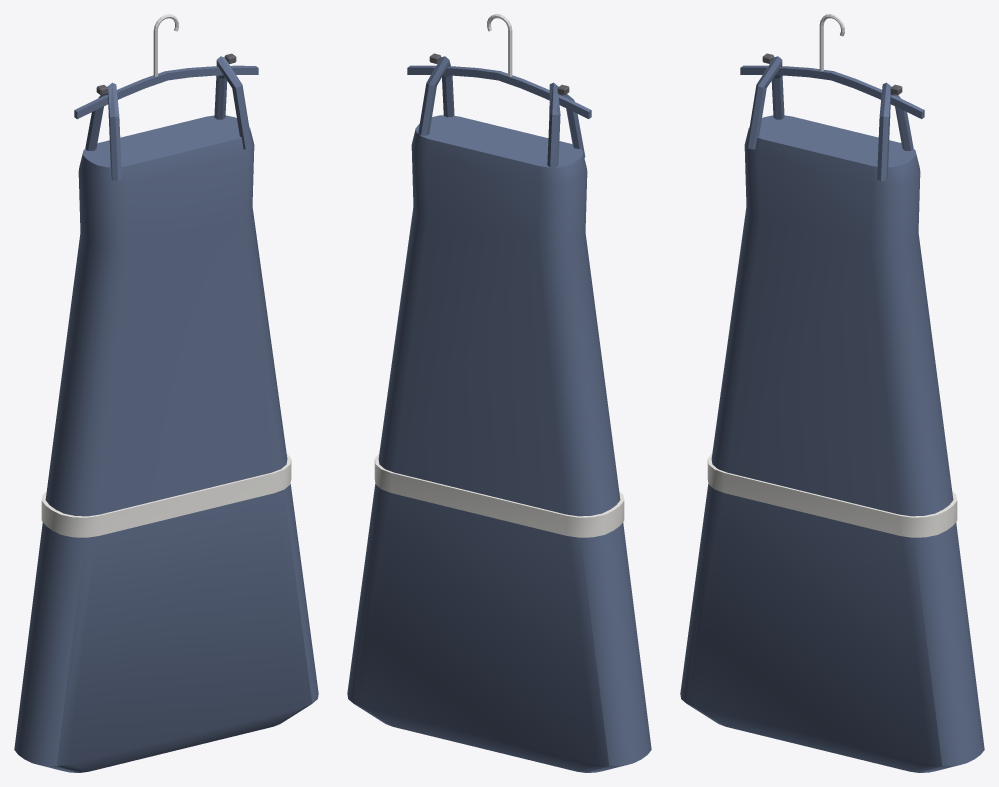
Rendered from clothing-rail-and-wardrobe-dress-on-hanger-long-5d844a11__35456.glb.
3 renders of one model, left to right at view 1: azimuth 30°, elevation 25°; view 2: azimuth 150°, elevation 25°; view 3: azimuth 330°, elevation 25°, orthographic.
Parts seen in each view (by area): view 1: dress-on-hanger-long; view 2: dress-on-hanger-long; view 3: dress-on-hanger-long.
Boxes of the visible parts, x1,y1,x2,y2 form: dress-on-hanger-long: (14,14,318,772); dress-on-hanger-long: (347,14,651,772); dress-on-hanger-long: (680,14,984,772).
Bounding box in the file's own units: 0.5439 × 1.3 × 0.132.
